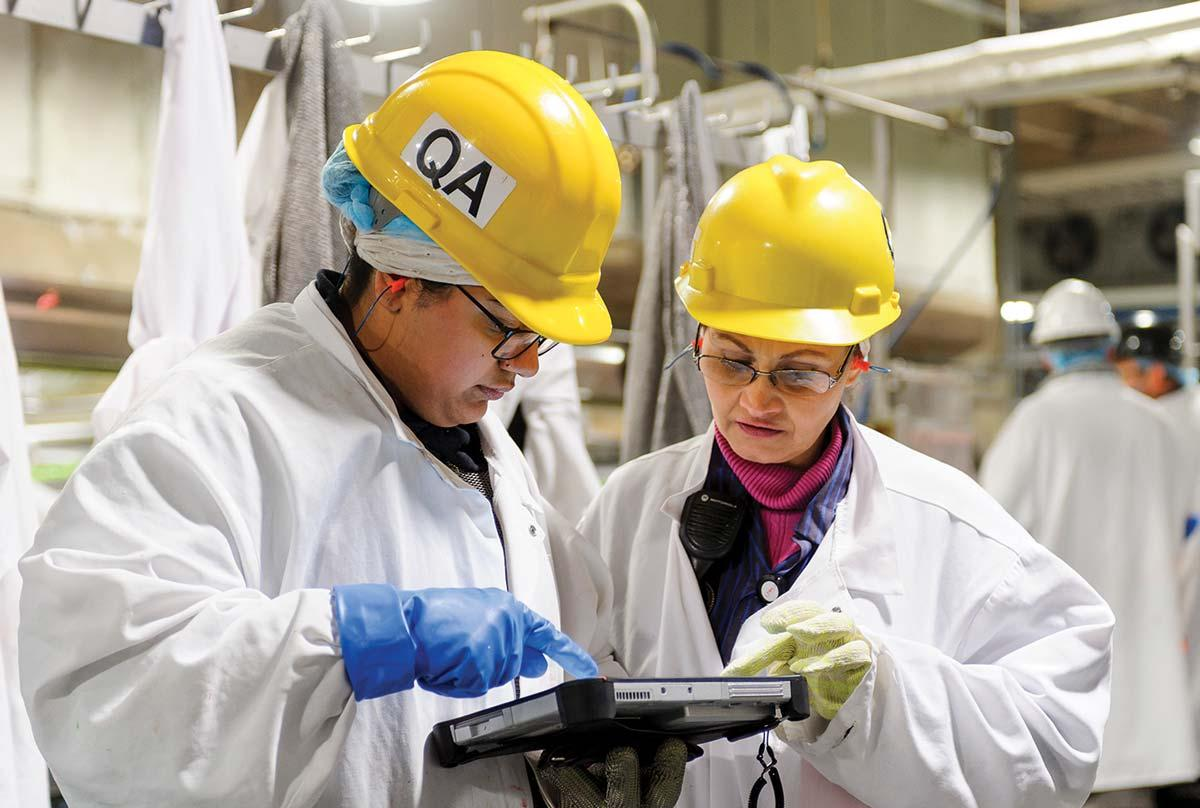helmet: (343, 51, 620, 348), (673, 155, 908, 348)
